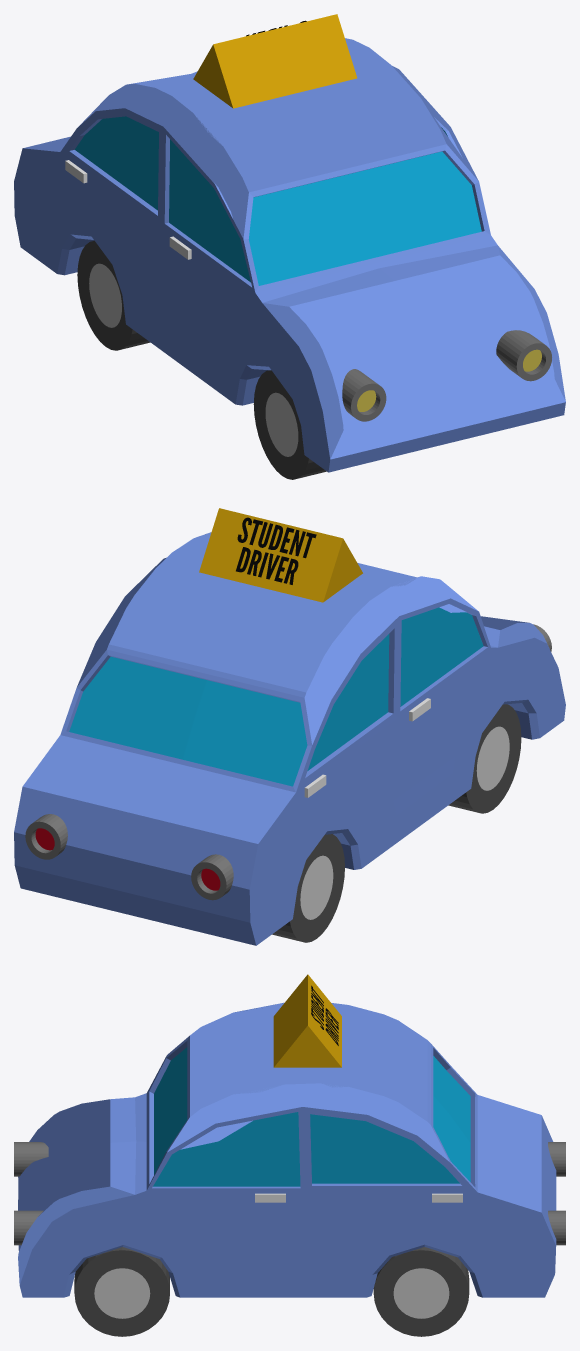
Rendered from student_driver.fbx.
3 renders of one model, top to bottom at view 1: azimuth 30°, elevation 25°; view 2: azimuth 150°, elevation 25°; view 3: azimuth 270°, elevation 25°, orthographic. The views are drawn at different scales.
Parts seen in each view (by area): view 1: Vehicle Chassis, Windows, Driving School Pyramid, Front Tires, Rear Tires, Headlights, Door Handles; view 2: Vehicle Chassis, Windows, Driving School Pyramid, Rear Tires, Front Tires, Taillights, Student Driver Text, Door Handles; view 3: Vehicle Chassis, Windows, Front Tires, Rear Tires, Driving School Pyramid, Headlights, Taillights, Student Driver Text, Door Handles.
Boxes of the visible parts, box(x1,y1,x2,y2) form: Vehicle Chassis: box(14, 38, 565, 472); Windows: box(74, 116, 481, 285); Driving School Pyramid: box(193, 14, 357, 108); Front Tires: box(253, 370, 326, 479); Rear Tires: box(77, 240, 150, 350); Headlights: box(342, 330, 551, 421); Door Handles: box(65, 160, 191, 259); Vehicle Chassis: box(14, 532, 565, 945); Windows: box(69, 607, 483, 786); Driving School Pyramid: box(199, 508, 362, 602); Rear Tires: box(272, 834, 344, 942); Front Tires: box(448, 704, 521, 813); Taillights: box(25, 814, 233, 900); Student Driver Text: box(236, 517, 316, 584); Door Handles: box(304, 698, 430, 797); Vehicle Chassis: box(18, 1002, 556, 1297); Windows: box(153, 1047, 470, 1186); Front Tires: box(74, 1247, 169, 1336); Rear Tires: box(373, 1247, 469, 1336); Driving School Pyramid: box(273, 974, 341, 1067); Headlights: box(14, 1142, 48, 1245); Taillights: box(548, 1142, 565, 1245); Student Driver Text: box(311, 985, 338, 1045); Door Handles: box(255, 1193, 462, 1202).
Bounding box in the file's own units: 205 × 277 × 478.
